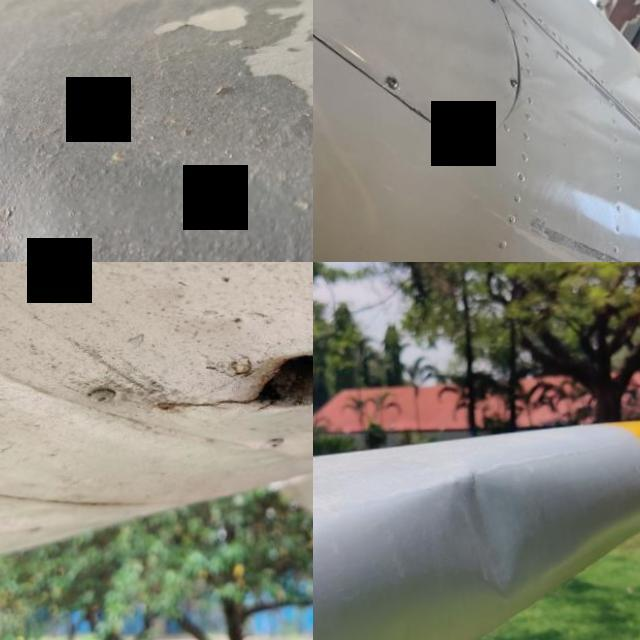Crack: (137, 328, 313, 442)
Dent: (430, 458, 550, 614), (0, 109, 68, 262)
Missing_Fastener: (468, 122, 480, 138), (485, 0, 498, 9)
